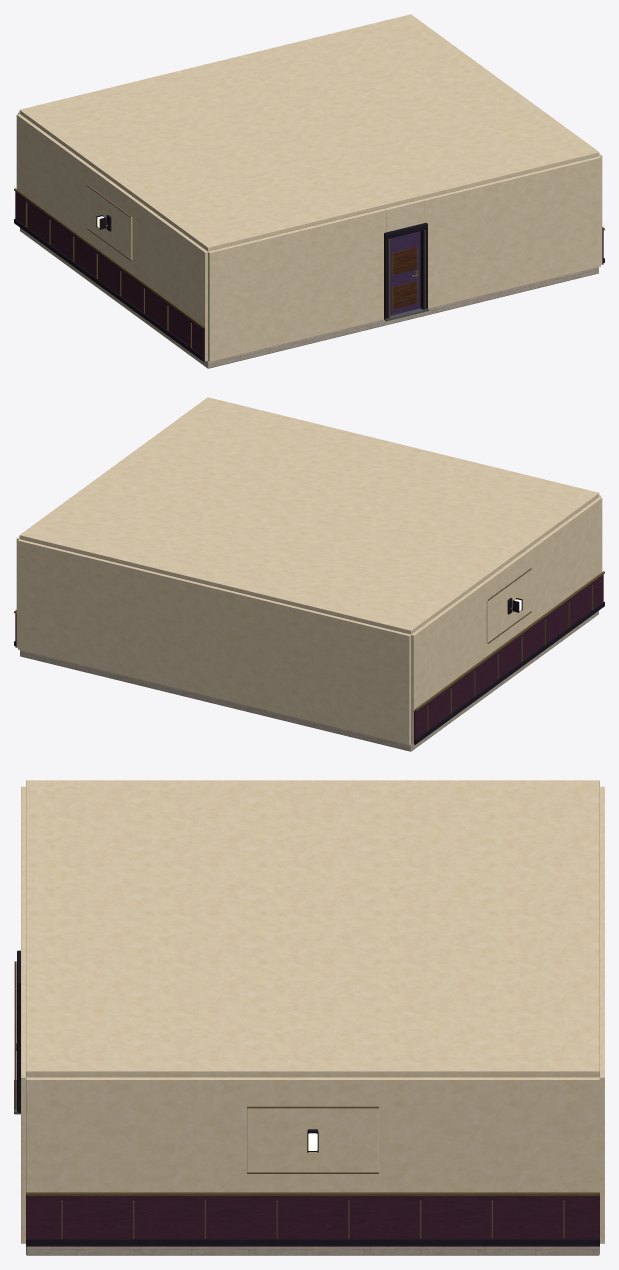
File: explore3d__kitchen.glb
The picture shows the model from 3 angles, top to bottom: view 1: azimuth 30°, elevation 25°; view 2: azimuth 150°, elevation 25°; view 3: azimuth 270°, elevation 25°; orthographic projection. The views are drawn at different scales.
Visible parts, largest first — view 1: ceiling_surface.010, front_wall.032, front_wall.030, left_wall.026, left_wainscot.018, floor.011, left_upper_inset.018, kitchen_leaf, left_skirt.018, front_wall.031, left_rail.018, kitchen_jamb.001 (+2 smaller); view 2: ceiling_surface.010, back_wall.020, left_wall.026, left_wainscot.018, floor.011, left_upper_inset.018, left_skirt.018, left_rail.018; view 3: ceiling_surface.010, right_wall.026, right_wainscot.018, right_upper_inset.018, floor.011, right_skirt.018, right_rail.018, back_wall.020, front_wall.030, front_wall.032.
Boxes of the visible parts, <box> form: ceiling_surface.010: <box>19,14,599,251</box>; front_wall.032: <box>208,209,385,361</box>; front_wall.030: <box>423,156,600,308</box>; left_wall.026: <box>16,114,207,361</box>; left_wainscot.018: <box>15,191,204,361</box>; floor.011: <box>20,228,598,368</box>; left_upper_inset.018: <box>88,186,132,259</box>; kitchen_leaf: <box>390,231,420,315</box>; left_skirt.018: <box>14,219,203,360</box>; front_wall.031: <box>384,199,424,232</box>; left_rail.018: <box>14,188,203,328</box>; kitchen_jamb.001: <box>420,227,427,309</box>; ceiling_surface.010: <box>19,397,599,634</box>; back_wall.020: <box>18,539,410,744</box>; left_wall.026: <box>411,497,602,744</box>; left_wainscot.018: <box>414,574,603,744</box>; floor.011: <box>20,611,598,751</box>; left_upper_inset.018: <box>486,569,530,642</box>; left_skirt.018: <box>415,602,604,743</box>; left_rail.018: <box>415,571,604,711</box>; ceiling_surface.010: <box>26,780,599,1077</box>; right_wall.026: <box>26,1077,599,1192</box>; right_wainscot.018: <box>26,1196,599,1246</box>; right_upper_inset.018: <box>247,1108,378,1172</box>; floor.011: <box>26,1246,599,1255</box>; right_skirt.018: <box>26,1238,599,1245</box>; right_rail.018: <box>26,1192,599,1195</box>; back_wall.020: <box>599,786,604,1243</box>; front_wall.030: <box>21,946,25,1243</box>; front_wall.032: <box>21,786,25,917</box>.
Size of the model in its own units: 12.96 by 3.56 by 10.3.
Materials: 14 (12 with a texture image).
